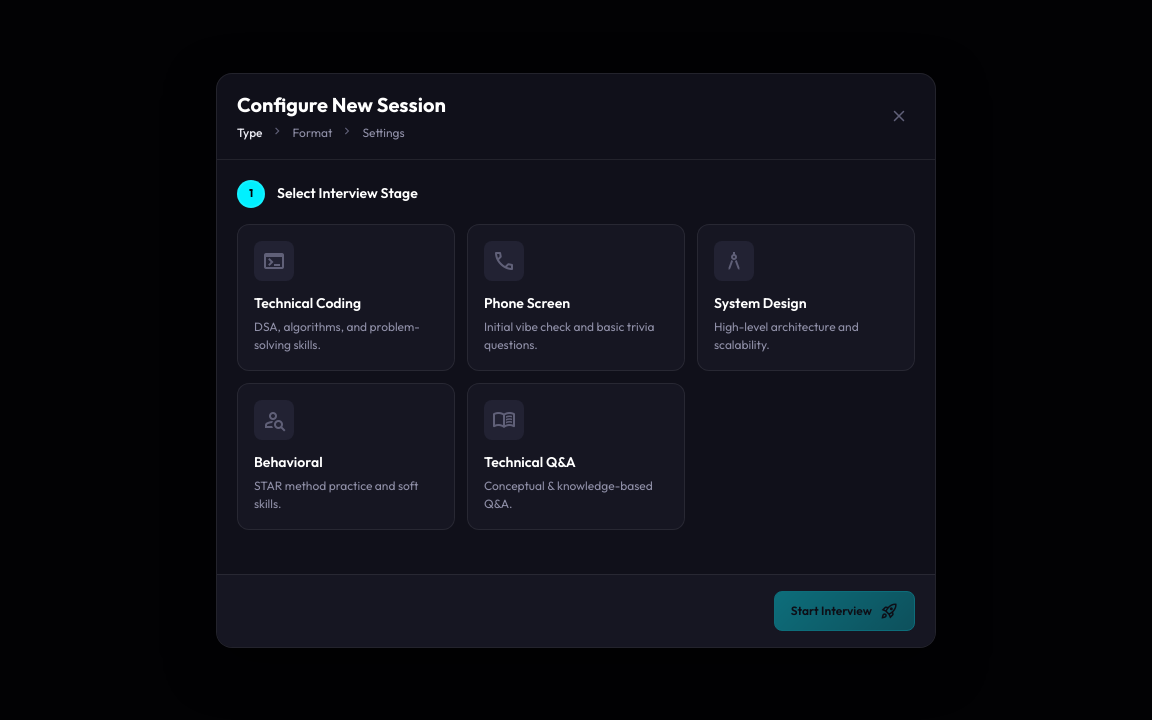
Test: InterviewLauncher › Phone Screen stage › selecting Phone Screen enables Start Interview
The image size is (1152, 720).
Click the text "Phone Screen" at [527, 302], box 484,294 -> 570,312
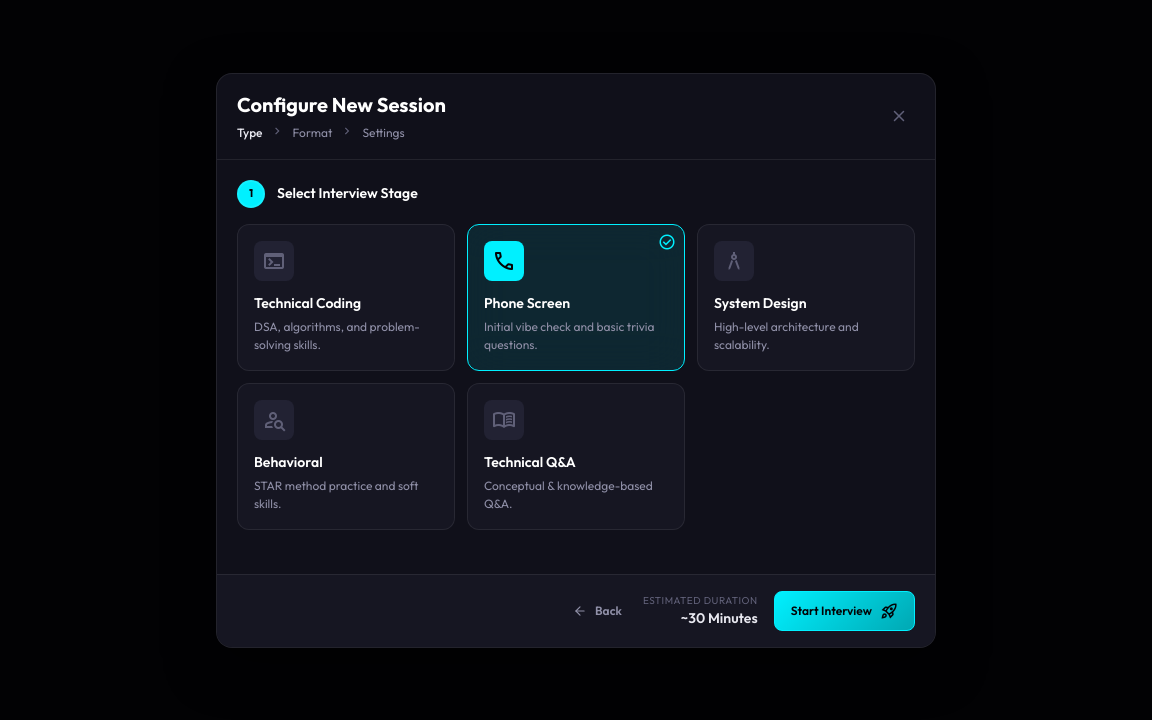
Now the button "Start Interview" is enabled, box 774,590 -> 915,630
